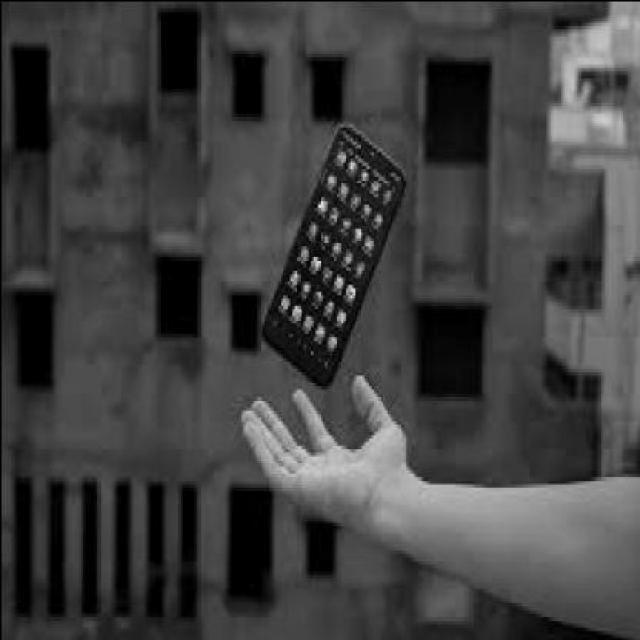fake: (255, 120, 408, 388)
